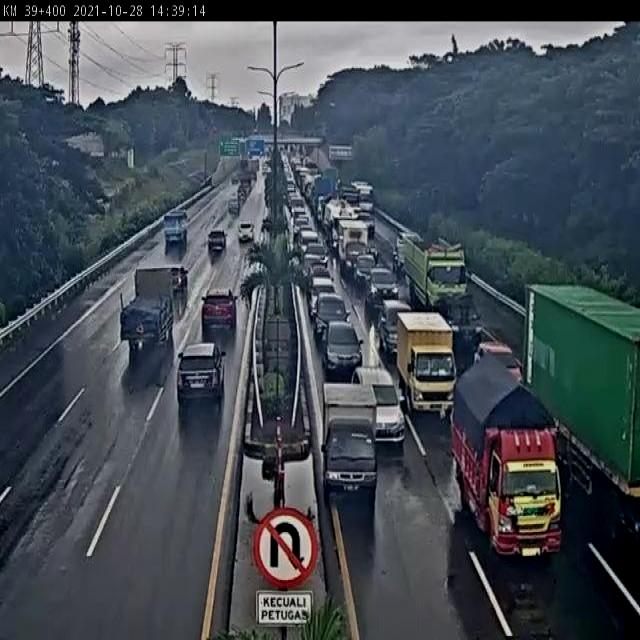Bus: (351, 180, 376, 214)
Car: (348, 367, 403, 446), (176, 341, 226, 409), (322, 319, 364, 381), (471, 338, 525, 386), (438, 294, 484, 350), (377, 299, 413, 354), (313, 291, 349, 344), (200, 287, 238, 337), (368, 267, 398, 306), (309, 276, 336, 318), (302, 240, 328, 266), (170, 266, 191, 295), (300, 252, 319, 284), (298, 228, 320, 255), (356, 211, 376, 238), (207, 230, 227, 252), (310, 262, 331, 282), (237, 221, 256, 243), (292, 216, 309, 240), (227, 196, 241, 213), (298, 224, 314, 233)
Truck: (521, 279, 640, 545), (453, 356, 561, 554), (318, 380, 378, 503), (395, 311, 458, 416), (401, 236, 467, 314), (119, 267, 173, 352), (335, 216, 371, 276), (324, 198, 361, 251), (312, 172, 339, 215), (162, 209, 190, 249), (341, 183, 360, 205)
